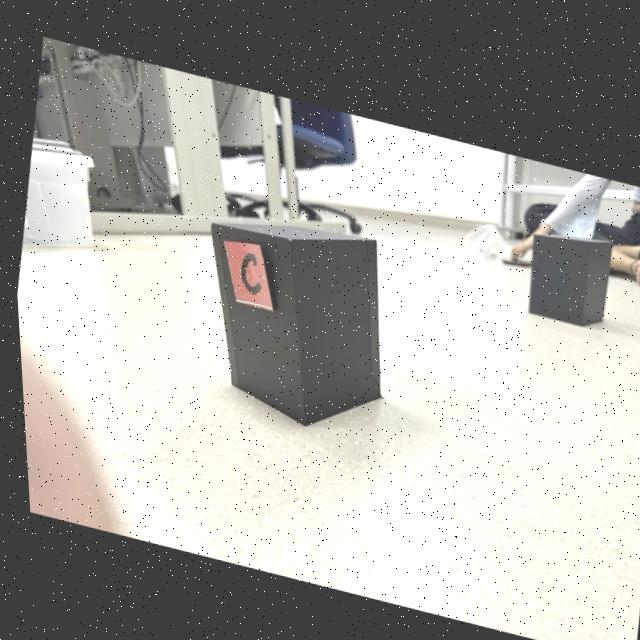C: (237, 250, 258, 289)
